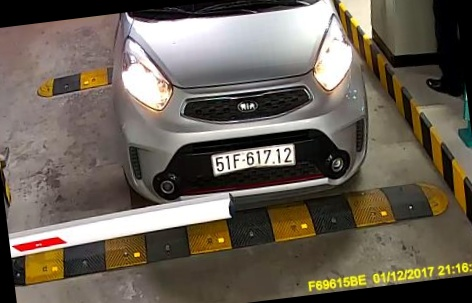plate: (205, 146, 300, 173)
